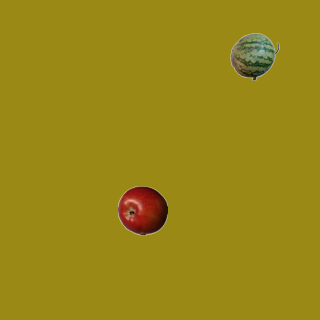Apple Braeburn: (117, 185, 167, 235)
Watermelon: (229, 31, 279, 81)
